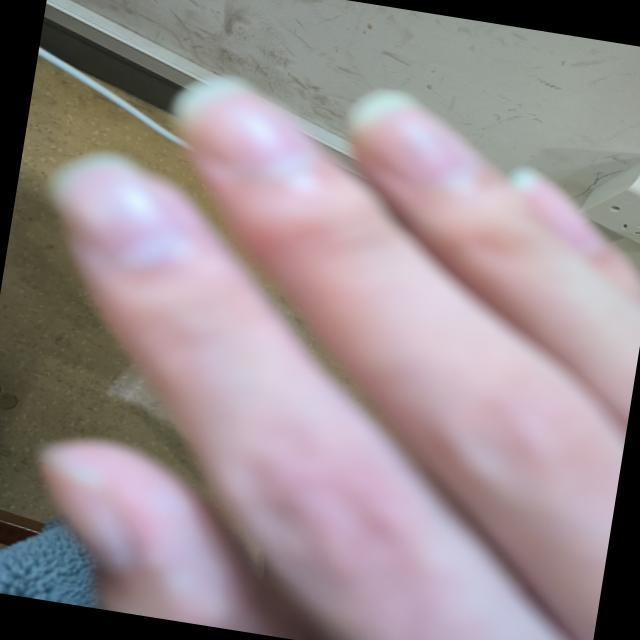Nail: (48, 153, 184, 260), (172, 79, 314, 175), (38, 451, 136, 576), (346, 93, 475, 177), (516, 167, 604, 255)
